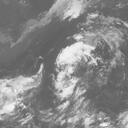cyclone: (55, 42, 93, 98)
